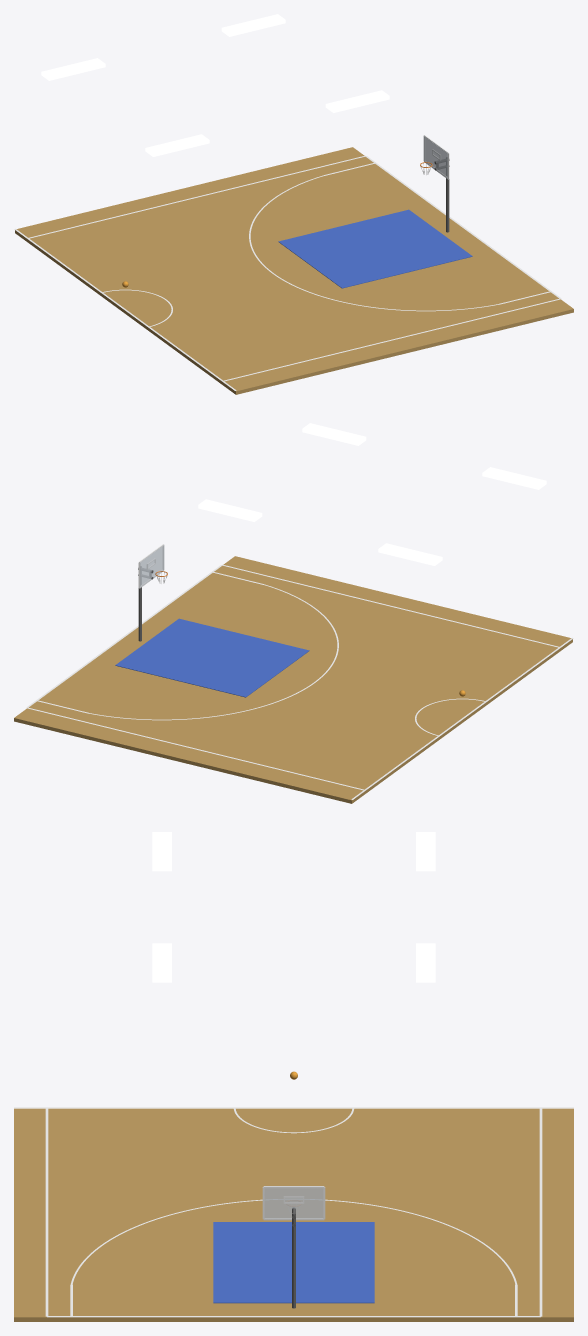
Rendered from basketball_court.glb.
The picture shows the model from 3 angles, top to bottom: view 1: azimuth 30°, elevation 25°; view 2: azimuth 150°, elevation 25°; view 3: azimuth 270°, elevation 25°; orthographic projection. The views are drawn at different scales.
Parts seen in each view (by area): view 1: Floor_Wood, Paint1, LightFix04, LightFix8-4, LightFix0-4, LightFix84, Backboard, ThreePointArc, SideB, SideF; view 2: Floor_Wood, Paint1, LightFix0-4, LightFix84, LightFix04, LightFix8-4, Backboard, ThreePointArc, SideB, SideF; view 3: Floor_Wood, Paint1, Backboard, Baseline, CentreLine, SideB, SideF, LightFix0-4, LightFix04, LightFix8-4, LightFix84, ThreePointArc.
Boxes of the visible parts, x1,y1,x2,y2 form: Floor_Wood: [15, 147, 573, 394]; Paint1: [278, 209, 472, 288]; LightFix04: [41, 58, 105, 80]; LightFix8-4: [325, 90, 389, 112]; LightFix0-4: [145, 134, 209, 156]; LightFix84: [221, 14, 285, 36]; Backboard: [423, 136, 447, 178]; ThreePointArc: [249, 175, 499, 311]; SideB: [223, 298, 560, 381]; SideF: [27, 155, 365, 238]; Floor_Wood: [14, 556, 572, 803]; Paint1: [115, 618, 309, 697]; LightFix0-4: [482, 467, 546, 489]; LightFix84: [198, 499, 262, 521]; LightFix04: [378, 543, 442, 565]; LightFix8-4: [302, 423, 366, 445]; Backboard: [140, 545, 164, 587]; ThreePointArc: [88, 584, 338, 720]; SideB: [222, 564, 560, 647]; SideF: [27, 707, 364, 790]; Floor_Wood: [14, 1108, 573, 1321]; Paint1: [213, 1222, 374, 1303]; Backboard: [264, 1188, 323, 1218]; Baseline: [47, 1316, 540, 1317]; CentreLine: [47, 1107, 540, 1108]; SideB: [45, 1108, 48, 1316]; SideF: [539, 1108, 542, 1316]; LightFix0-4: [152, 832, 171, 871]; LightFix04: [416, 832, 435, 871]; LightFix8-4: [152, 943, 171, 982]; LightFix84: [416, 943, 435, 982]; ThreePointArc: [71, 1199, 516, 1284].
Bounding box in the file's own units: 16.29 × 8.83 × 17.
